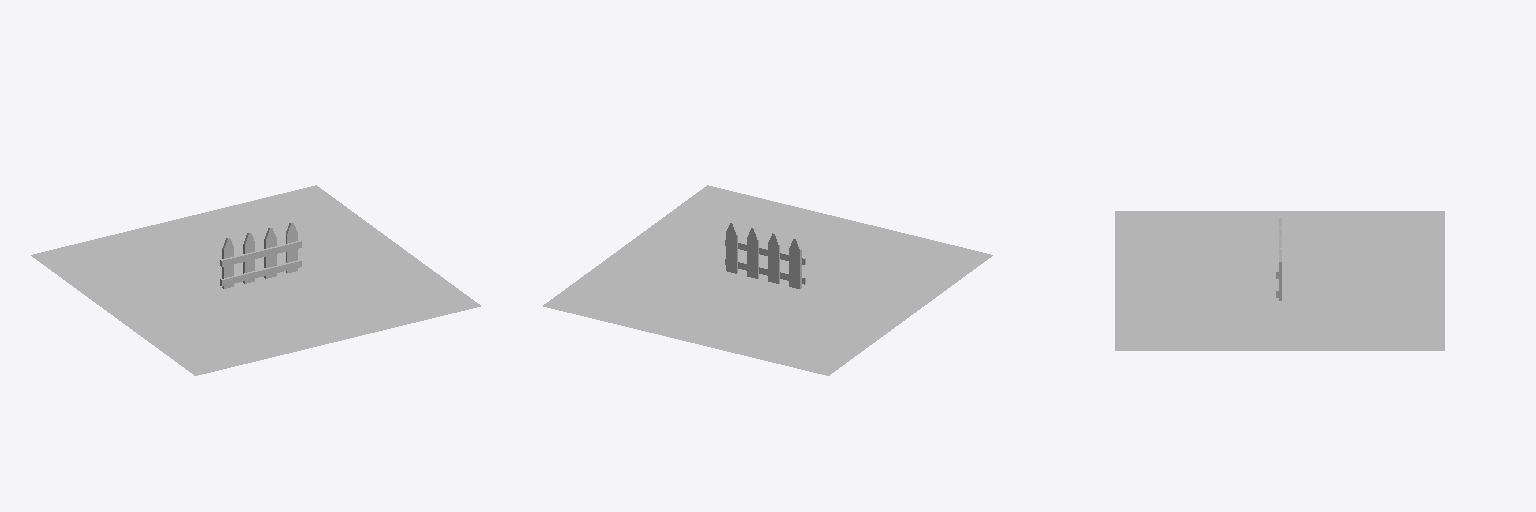
File: fence.obj
3 views of the same model, side by side, from view 1: azimuth 30°, elevation 25°; view 2: azimuth 150°, elevation 25°; view 3: azimuth 270°, elevation 25° (orthographic).
Visible parts, largest first — view 1: Plane, Cube; view 2: Plane, Cube; view 3: Plane.
Part boxes in pixels (x1,y1,x2,y2): Plane: (31, 185, 480, 375); Cube: (220, 222, 301, 288); Plane: (543, 185, 992, 375); Cube: (725, 222, 805, 288); Plane: (1115, 211, 1444, 350).
Bounding box in the file's own units: 15.49 × 2.55 × 15.49.